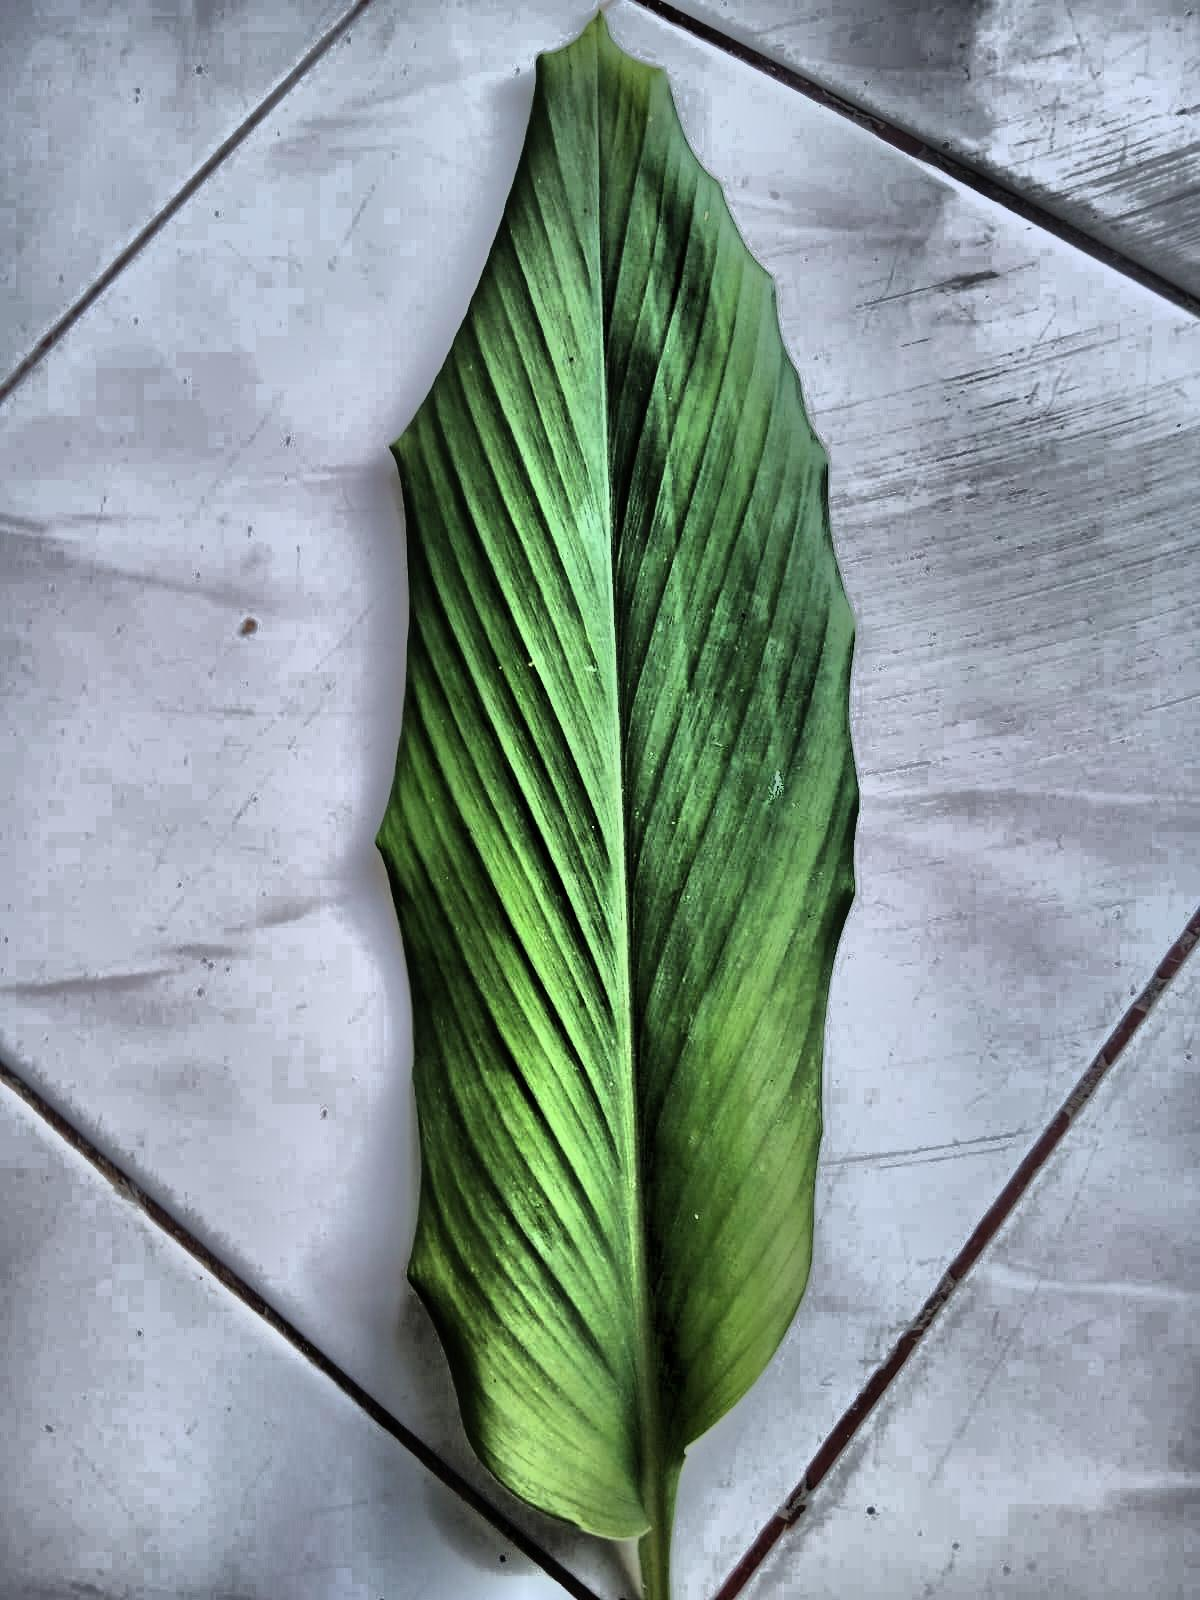daun kunyit: (378, 16, 858, 1599)
